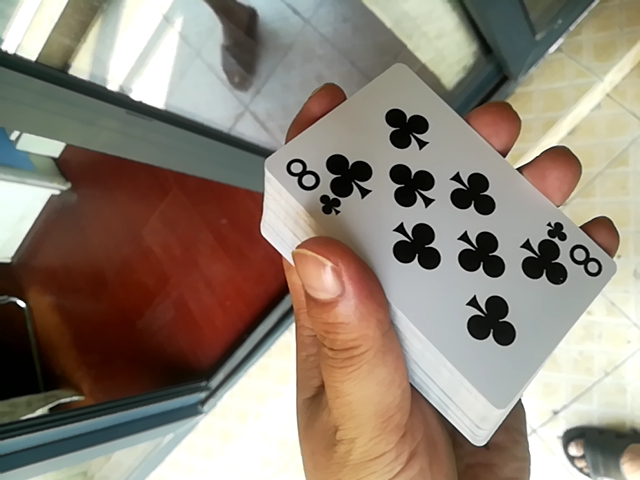mh 8: (131, 14, 632, 394)
